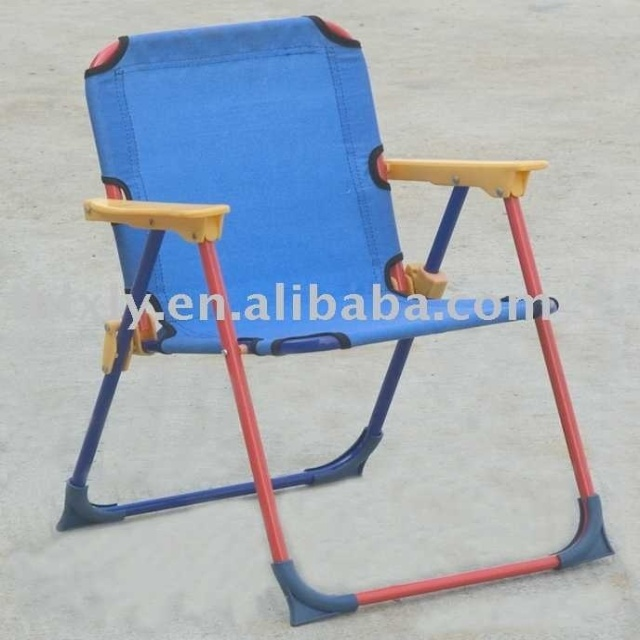obstacle: (59, 15, 611, 625)
